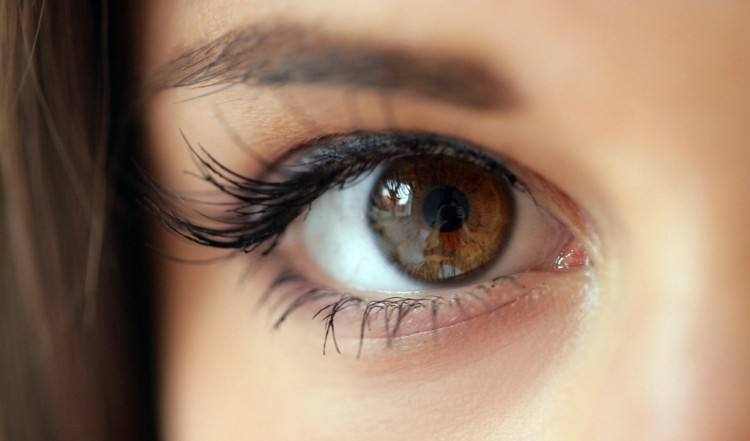iris: (365, 148, 517, 287)
pupil: (419, 186, 473, 230)
